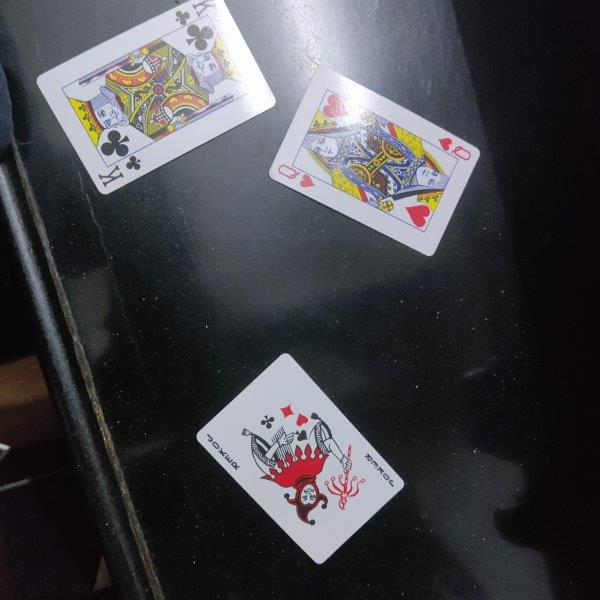Joker: (196, 353, 406, 566)
King of Clubs: (35, 1, 278, 196)
Queen of Hearts: (269, 66, 480, 257)
